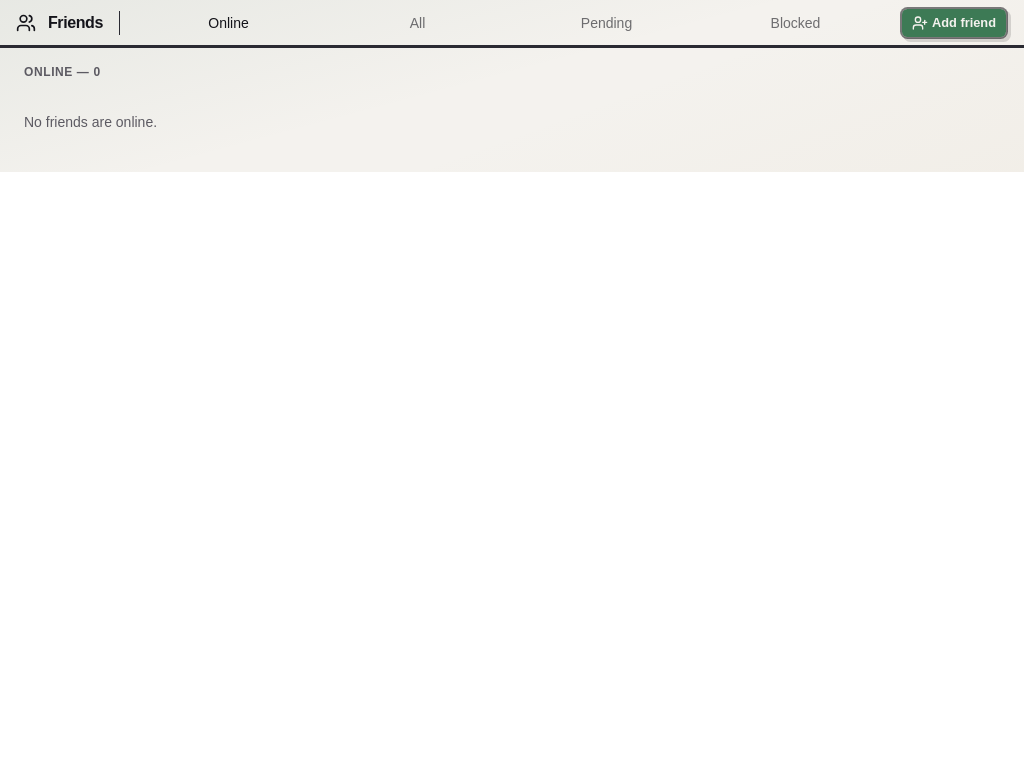
Scenario: FriendsView › opens the add friend control without changing the URL
The image size is (1024, 768).
Step 1. Click the button "Add friend" → (954, 22), box x1=900 y1=6 x2=1008 y2=38
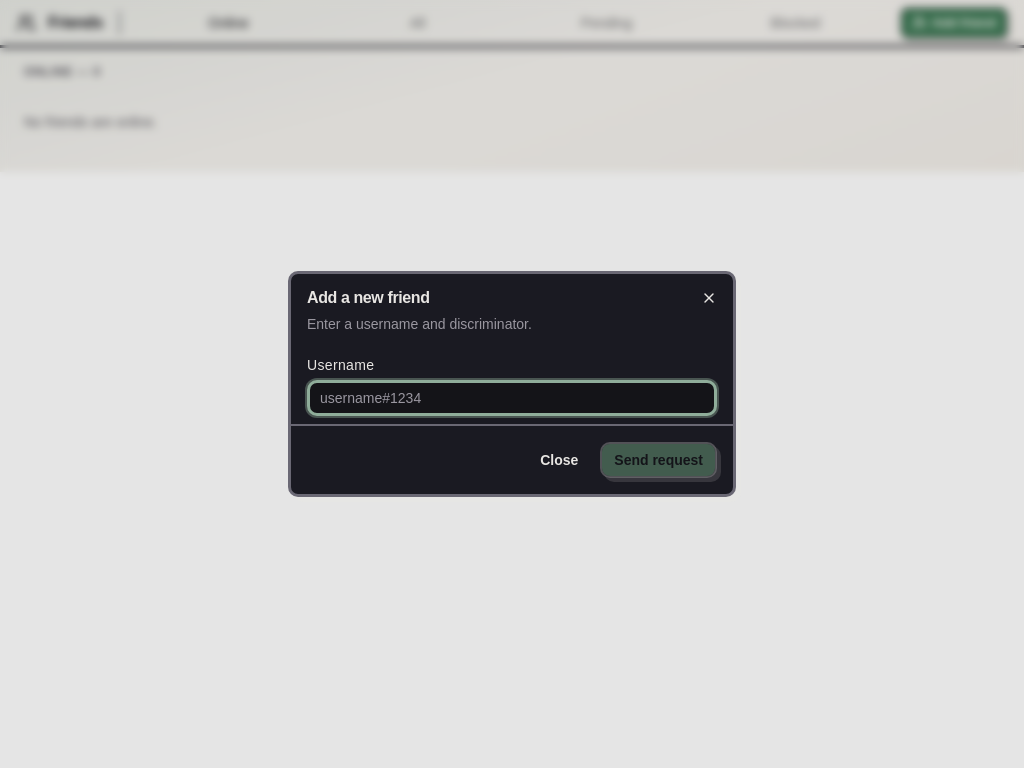
Now the dialog "Add a new friend" is shown, box x1=288 y1=271 x2=736 y2=497
Now the field labelled "Username" is shown, box x1=307 y1=380 x2=717 y2=416
